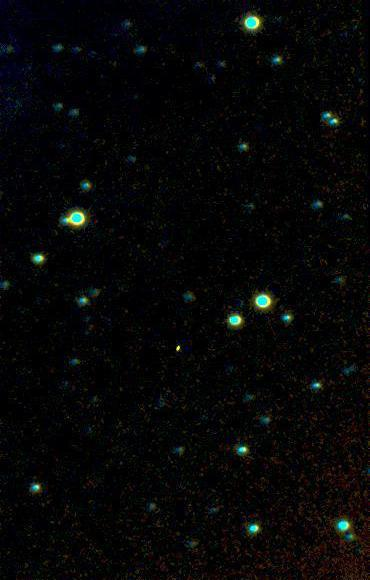star: (0, 35, 26, 65)
